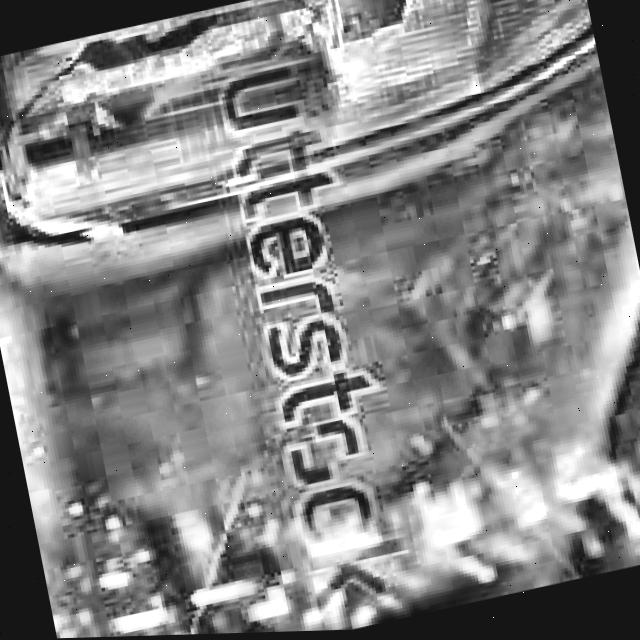tail_lamp: (32, 0, 440, 149)
